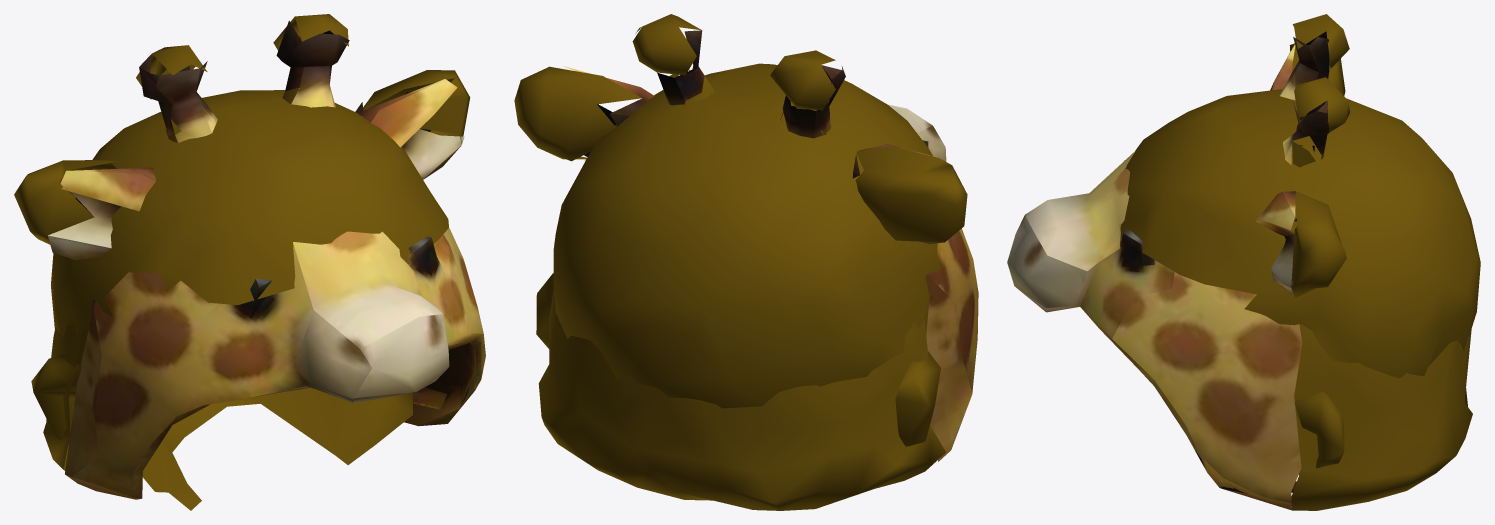
The model's file is giraffe.glb.
The picture shows the model from 3 angles, left to right: view 1: azimuth 30°, elevation 25°; view 2: azimuth 150°, elevation 25°; view 3: azimuth 270°, elevation 25°; orthographic projection. The views are drawn at different scales.
Visible parts, largest first — view 1: geometry_0, HoodAnatomicalLining; view 2: HoodAnatomicalLining, geometry_0; view 3: geometry_0, HoodAnatomicalLining.
Boxes of the visible parts, x1,y1,x2,y2 form: geometry_0: (14,14,485,499); HoodAnatomicalLining: (31,90,448,510); HoodAnatomicalLining: (536,63,942,446); geometry_0: (514,14,978,510); geometry_0: (1007,14,1472,510); HoodAnatomicalLining: (1120,89,1480,474).
Bounding box in the file's own units: 0.5245 × 0.4778 × 0.5081.
Materials: 2 (1 with a texture image).
